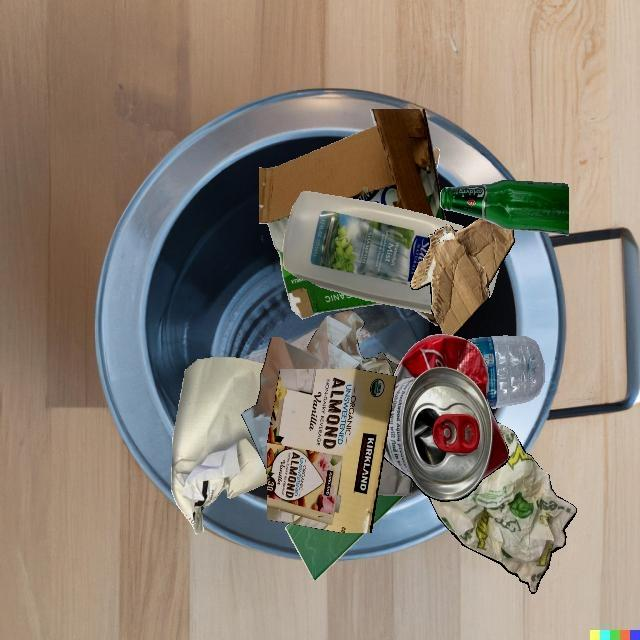cardboard: (259, 109, 446, 319), (267, 369, 397, 533), (410, 218, 514, 336), (401, 157, 434, 309)
glass: (440, 180, 569, 236)
metal: (384, 334, 509, 502), (375, 352, 398, 373)
paper: (428, 422, 577, 593), (242, 310, 393, 476), (171, 357, 267, 534), (286, 523, 366, 581), (378, 457, 413, 496)
plastic: (283, 191, 464, 314), (467, 335, 545, 409)
